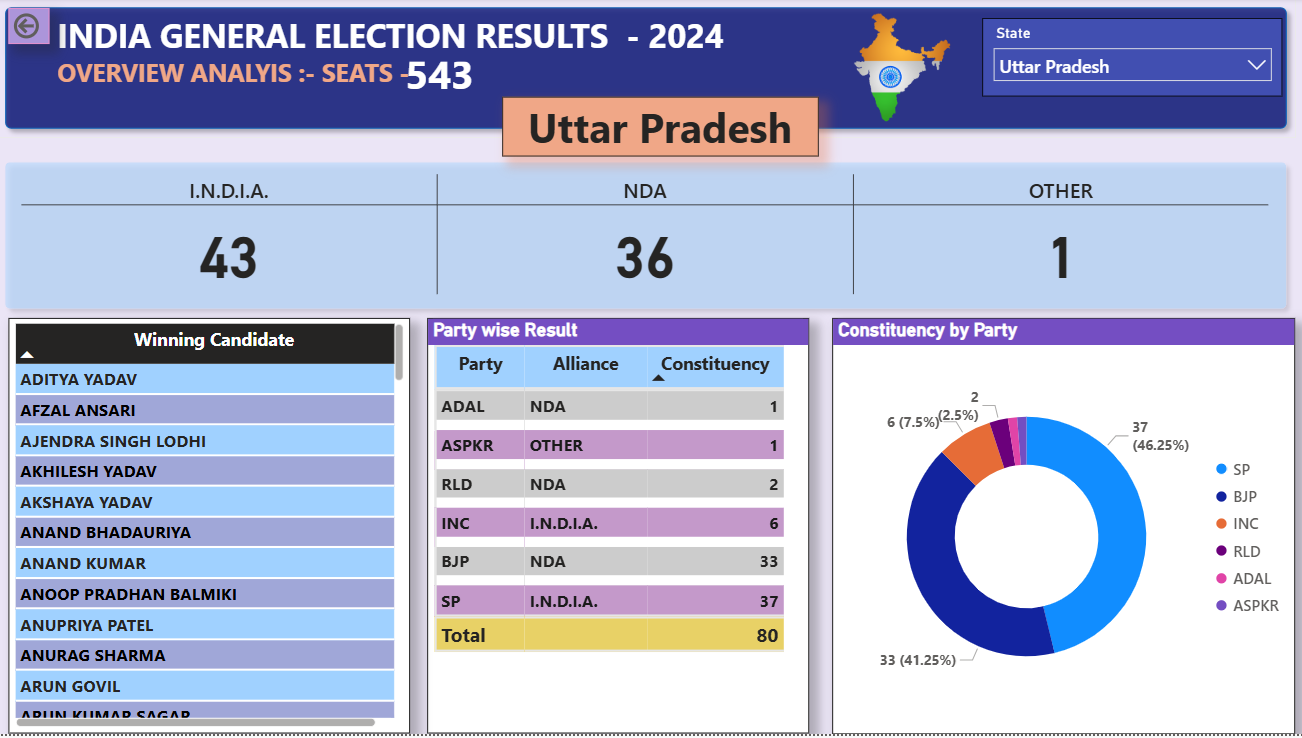

This screenshot's page, from the dashboard's own definition file:
{"tool":"powerbi","page":{"name":"StateWise","canvas":[1280,720],"ordinal":1},"visuals":[{"type":"shape","box":[0,0,1271.7,137],"z":0},{"type":"textbox","box":[55,9.8,675,116.2],"z":1000},{"type":"card","fields":{"Values":["partywise_results.Total seats"]},"box":[392.5,57.5,83.2,55],"z":2000},{"type":"shape","box":[0,151.2,1271.2,161.2],"z":3000},{"type":"cardVisual","fields":{"Data":["constituencywise_results[1].Constituency Name"],"Rows":["partywise_results.Party Alliance"]},"box":[0,167.5,1271.2,127.5],"z":4000},{"type":"slicer","fields":{"Values":["states[1].State"]},"box":[964.7,19.2,293.7,76.8],"z":5000},{"type":"tableEx","title":"Party wise Result","fields":{"Values":["constituencywise_results[1].Party ShortName","constituencywise_results[1].Party alliance Result","constituencywise_results[1].Constituency Name"]},"box":[421.3,312.9,373.2,406.2],"z":6000},{"type":"donutChart","fields":{"Category":["constituencywise_results[1].Party ShortName"],"Y":["constituencywise_results[1].Constituency Name"]},"box":[817.8,312.9,452.8,407.5],"z":7000},{"type":"tableEx","fields":{"Values":["constituencywise_results[1].Winning Candidate"]},"box":[12.3,312.9,392.5,406.2],"z":8000},{"type":"card","fields":{"Values":["states.State"]},"box":[495.2,96.6,309.4,58.7],"z":9000},{"type":"actionButton","box":[12.2,9.8,40.4,35.5],"z":10000},{"type":"image","box":[804.6,9.8,160.2,116.2],"z":11000}]}

Visuals, with their boxes in screenshot pixels (x1, y1, x2, y2), scaled from the page's 1280x720 canvas onto the 1302x738 screenshot:
shape: l=0, t=0, r=1294, b=140
textbox: l=56, t=10, r=743, b=129
card - partywise_results.Total seats: l=399, t=59, r=484, b=115
shape: l=0, t=155, r=1293, b=320
cardVisual - constituencywise_results[1].Constituency Name x partywise_results.Party Alliance: l=0, t=172, r=1293, b=302
slicer - states[1].State: l=981, t=20, r=1280, b=98
"Party wise Result" tableEx: l=429, t=321, r=808, b=737
donutChart - constituencywise_results[1].Party ShortName x constituencywise_results[1].Constituency Name: l=832, t=321, r=1292, b=737
tableEx - constituencywise_results[1].Winning Candidate: l=13, t=321, r=412, b=737
card - states.State: l=504, t=99, r=818, b=159
actionButton: l=12, t=10, r=54, b=46
image: l=818, t=10, r=981, b=129
